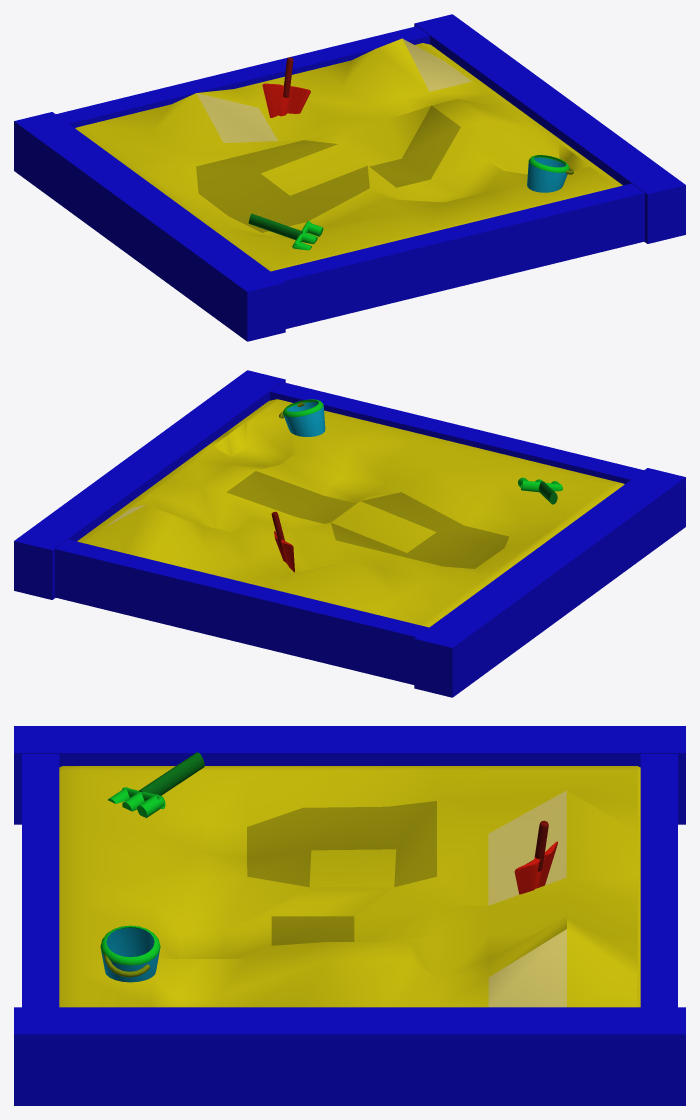
The model's file is SandBox.fbx.
3 renders of one model, top to bottom at view 1: azimuth 30°, elevation 25°; view 2: azimuth 150°, elevation 25°; view 3: azimuth 270°, elevation 25°, orthographic. The views are drawn at different scales.
Visible parts, largest first — view 1: obj3, obj1, obj2, obj4; view 2: obj3, obj2, obj4, obj1; view 3: obj3, obj2, obj4, obj1.
Part boxes in pixels (box(x1,y1,x2,y2)): obj3: box(14, 14, 685, 341); obj1: box(262, 57, 310, 117); obj2: box(527, 155, 573, 192); obj4: box(248, 213, 323, 250); obj3: box(14, 370, 685, 697); obj2: box(279, 399, 325, 436); obj4: box(518, 477, 562, 504); obj1: box(271, 511, 294, 572); obj3: box(14, 726, 685, 1105); obj2: box(100, 925, 160, 982); obj4: box(108, 752, 204, 817); obj1: box(514, 820, 557, 894).
Size of the model in its own units: 226 by 46.2 by 208.
